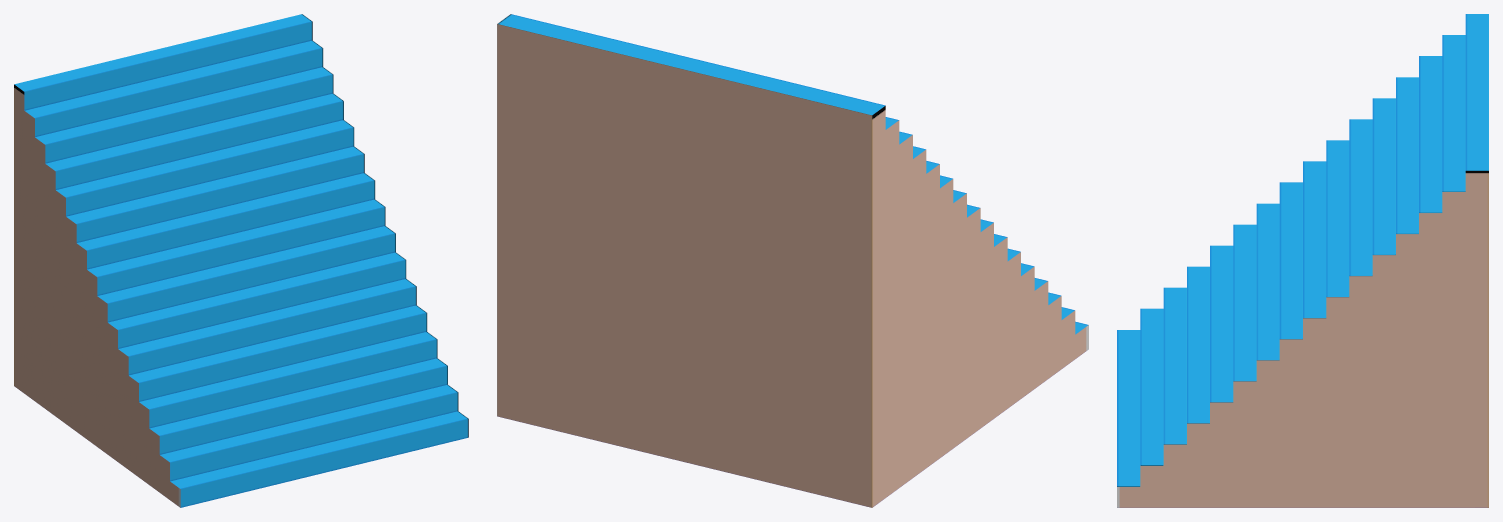
File: MK_Stairs_Trim_C_Wall_B.fbx
The picture shows the model from 3 angles, left to right: view 1: azimuth 30°, elevation 25°; view 2: azimuth 150°, elevation 25°; view 3: azimuth 270°, elevation 25°; orthographic projection. The views are drawn at different scales.
Parts seen in each view (by area): view 1: Stairs_Trim_C_Wall_B; view 2: Stairs_Trim_C_Wall_B; view 3: Stairs_Trim_C_Wall_B.
Boxes of the visible parts, x1,y1,x2,y2 form: Stairs_Trim_C_Wall_B: (14, 14, 468, 507); Stairs_Trim_C_Wall_B: (497, 14, 1088, 507); Stairs_Trim_C_Wall_B: (1117, 14, 1488, 507).
Size of the model in its own units: 180 by 180 by 180.
Materials: 1 (1 with a texture image).
